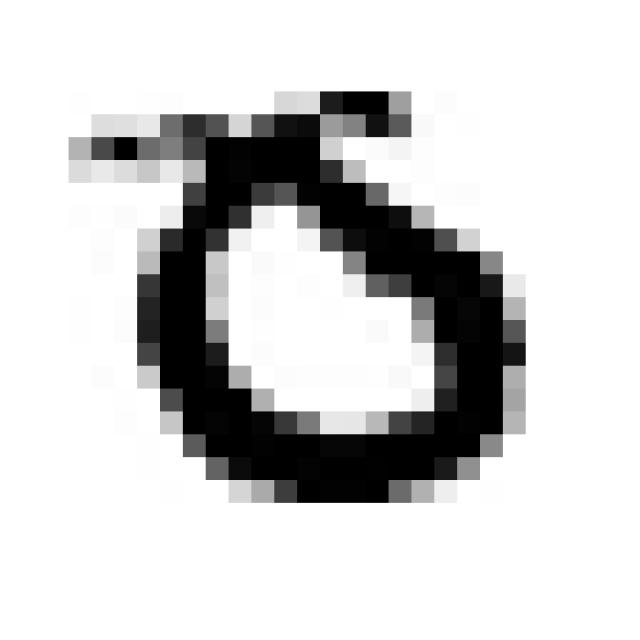5 -five-: (52, 73, 534, 520)
